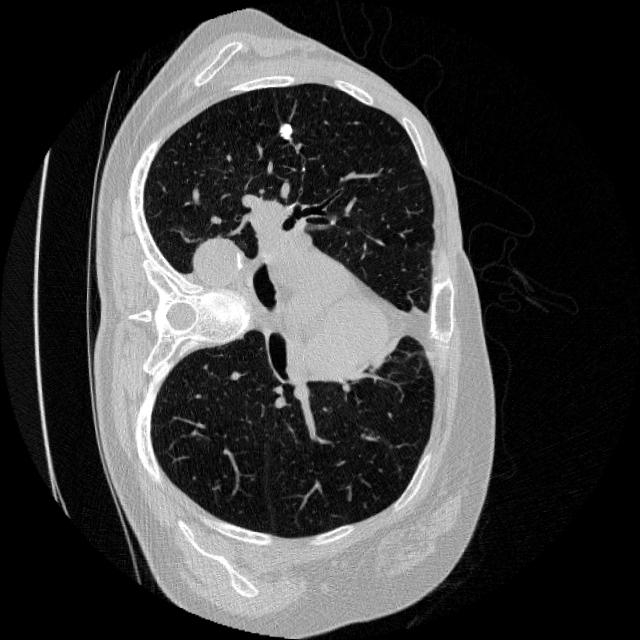nodule: (268, 116, 302, 150)
